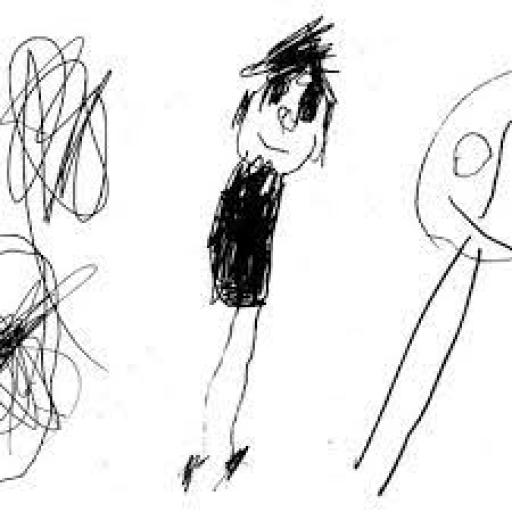person: (164, 13, 362, 501), (346, 59, 512, 510)
